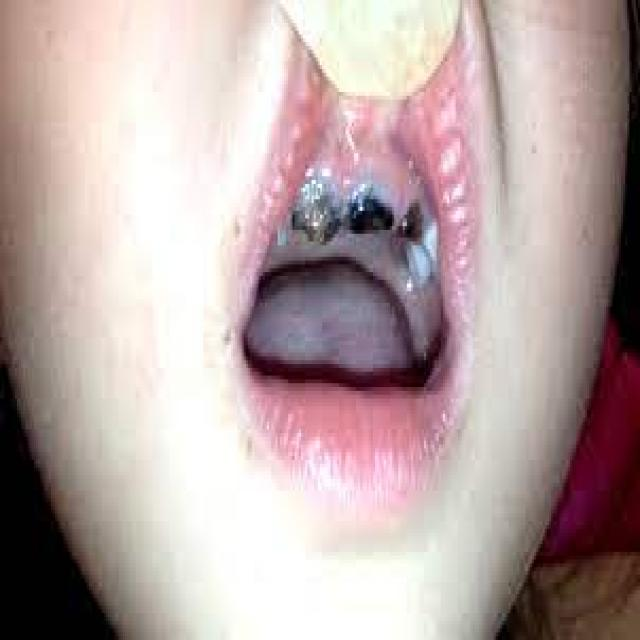caries: (290, 164, 341, 252), (344, 169, 393, 255), (399, 199, 432, 258)
